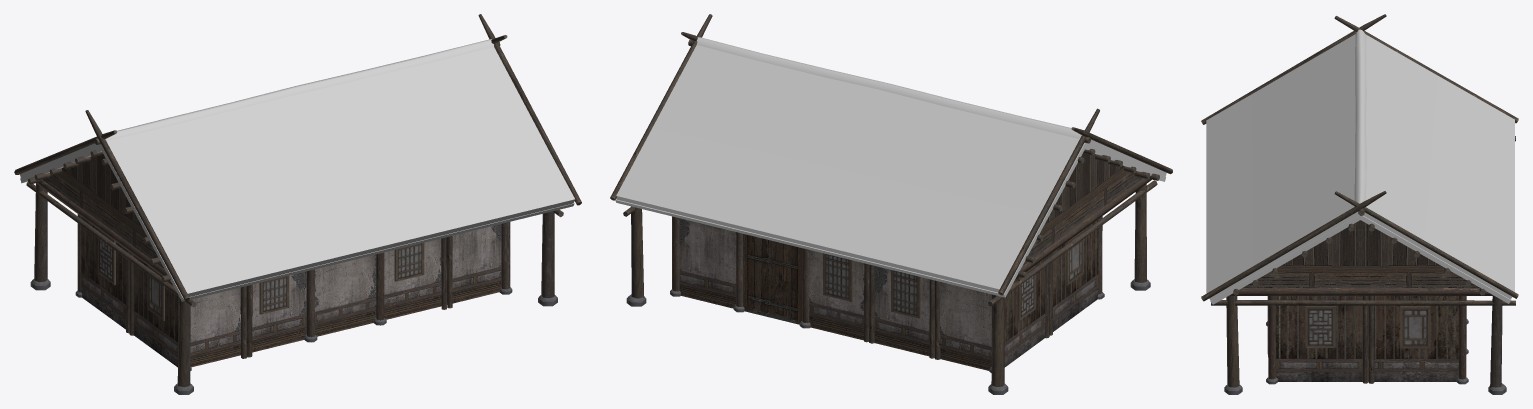
Rendered from b_zx_fangzi02_01.FBX.
3 renders of one model, left to right at view 1: azimuth 30°, elevation 25°; view 2: azimuth 150°, elevation 25°; view 3: azimuth 270°, elevation 25°, orthographic. The views are drawn at different scales.
Visible parts, largest first — view 1: b_zx_fangzi02_01, b_zx_fangzi02_03, b_zx_fangzi02_02; view 2: b_zx_fangzi02_01, b_zx_fangzi02_03, b_zx_fangzi02_02; view 3: b_zx_fangzi02_01, b_zx_fangzi02_03, b_zx_fangzi02_02.
Boxes of the visible parts, x1,y1,x2,y2 form: b_zx_fangzi02_01: (20,39,574,296); b_zx_fangzi02_03: (14,14,581,394); b_zx_fangzi02_02: (20,145,574,301); b_zx_fangzi02_01: (616,37,1166,292); b_zx_fangzi02_03: (610,14,1172,394); b_zx_fangzi02_02: (615,143,1165,297); b_zx_fangzi02_01: (1206,29,1514,300); b_zx_fangzi02_03: (1201,14,1518,394); b_zx_fangzi02_02: (1210,215,1511,304).
Bounding box in the file's own units: 15.58 × 8.29 × 11.49.
